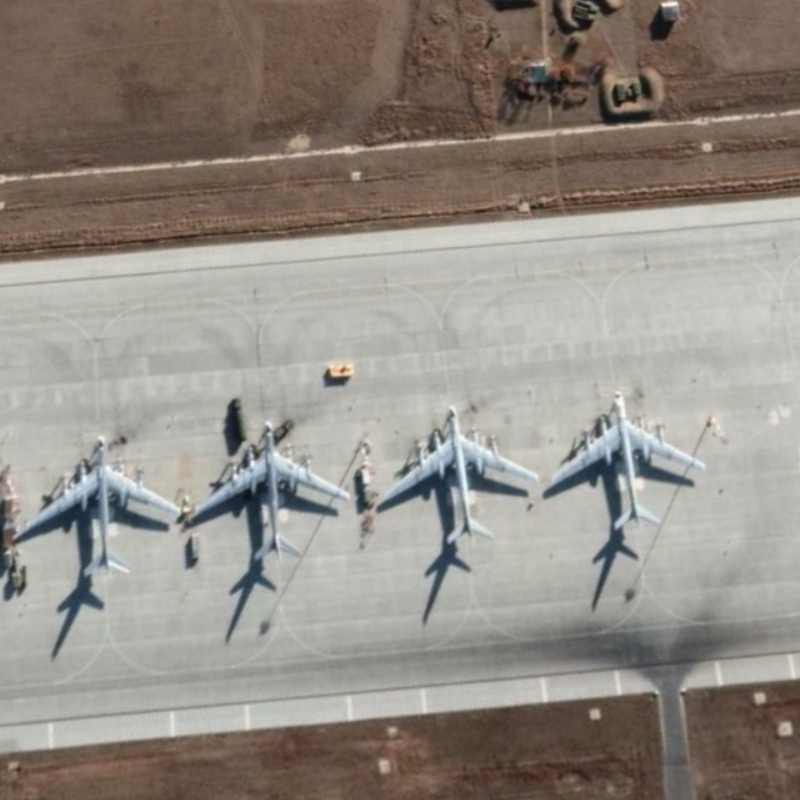A17: (549, 387, 709, 535), (22, 433, 183, 579), (381, 403, 542, 546), (195, 418, 353, 563)
